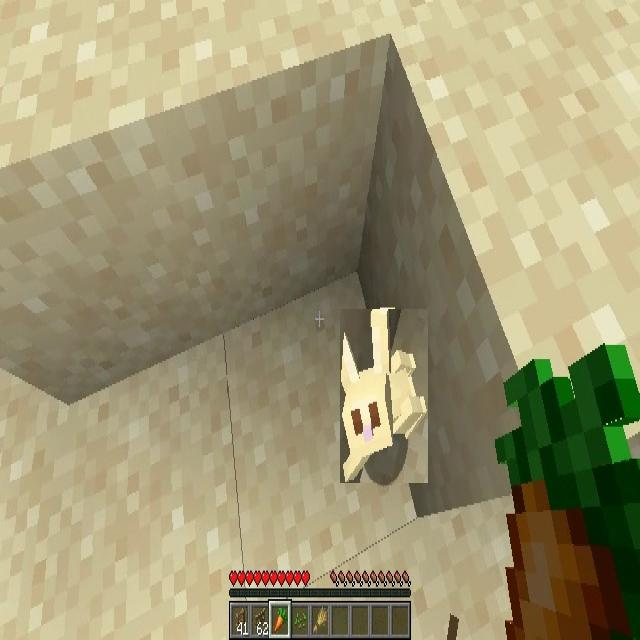rabbit: (340, 309, 428, 483)
